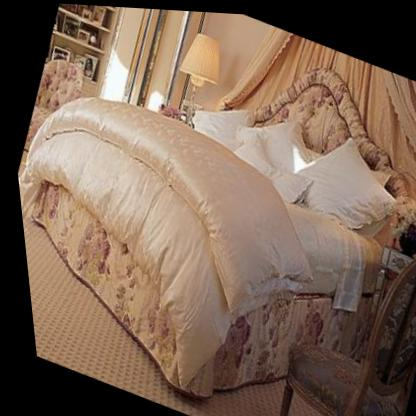Bed: (0, 0, 416, 416)
Chair: (239, 205, 416, 416)
